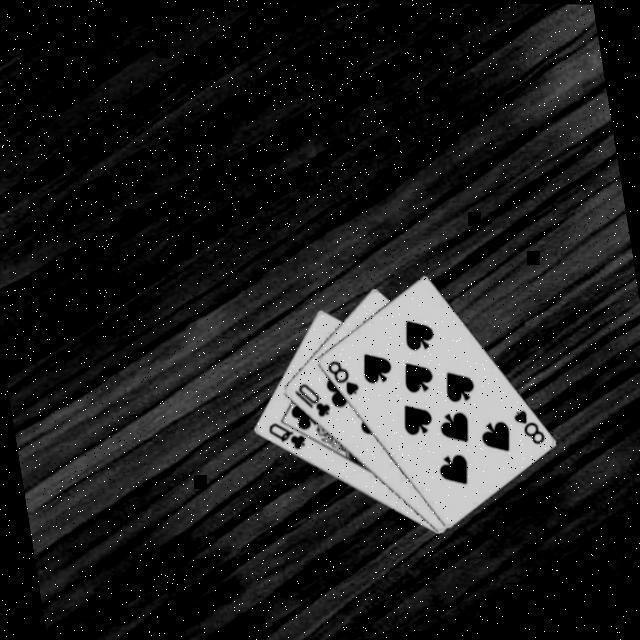10C: (290, 374, 335, 422)
8S: (323, 352, 362, 400), (510, 402, 550, 448)
QC: (264, 414, 310, 456)
